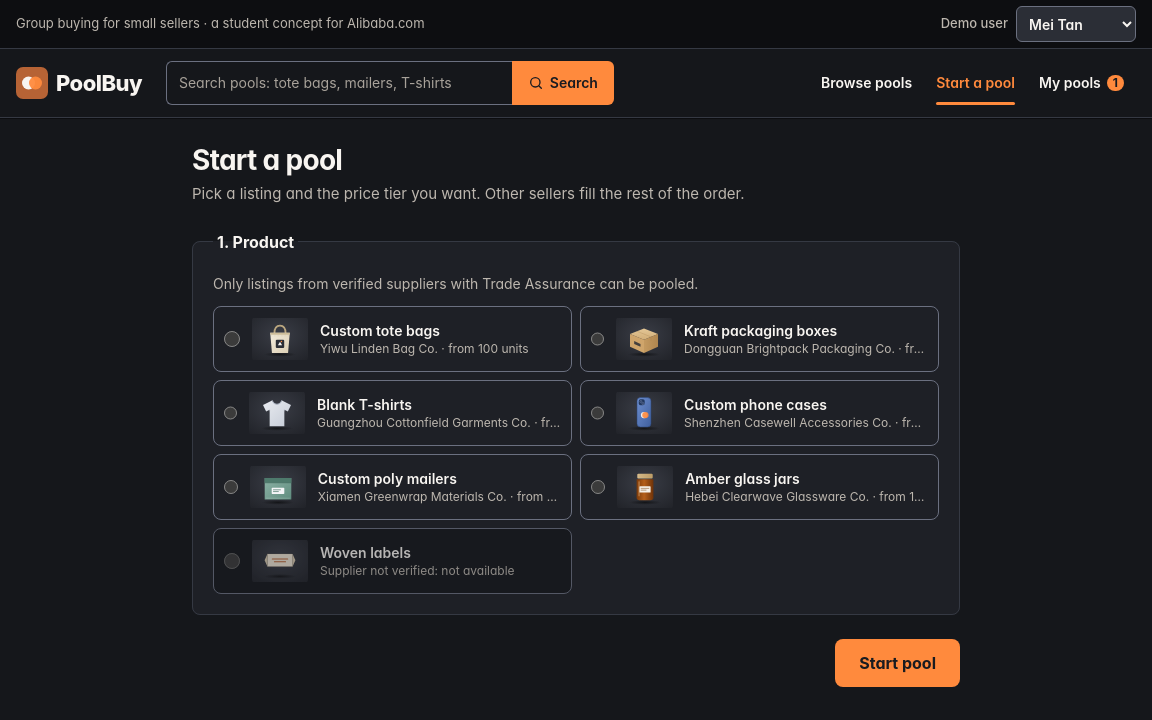
Scenario: Screen 3: start a pool (story 1) › shows an error instead of saving a script in the note
Step 1. Click the radio button labelled "Custom poly mailers" → (231, 487), box [224,479,238,495]
(page scrolled)
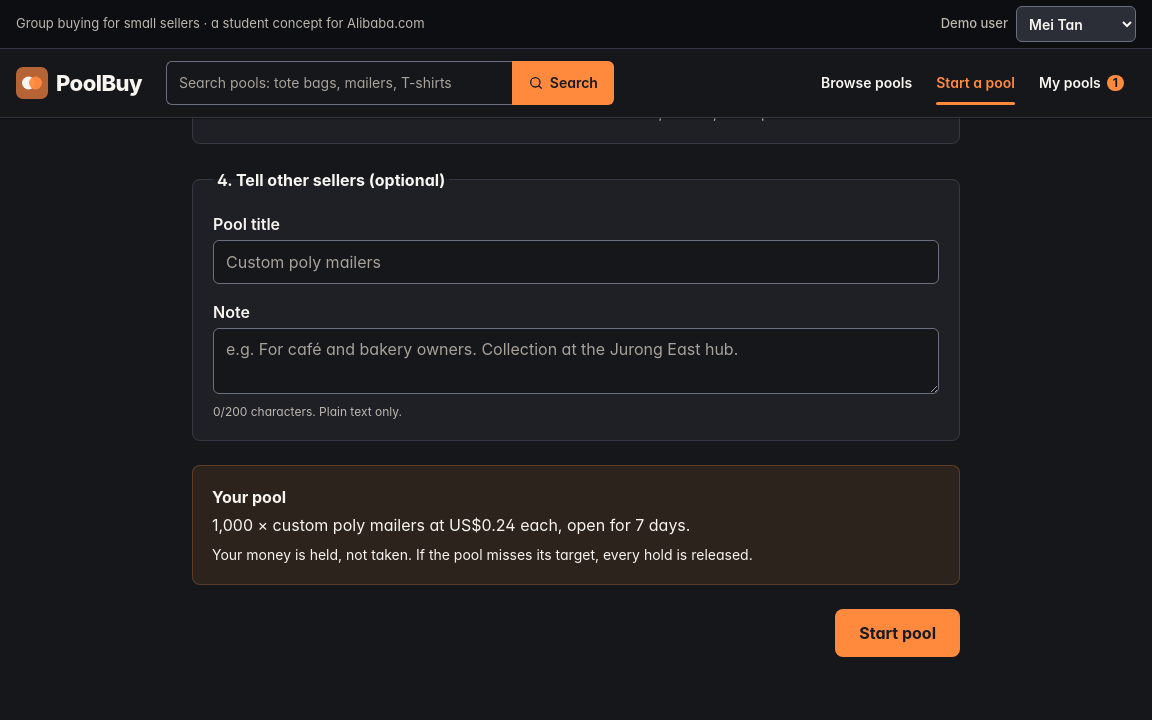
Step 2. Type "<img src=x onerror=alert(1)>" into the text box labelled "Note" → (576, 361), box [213,328,939,394]
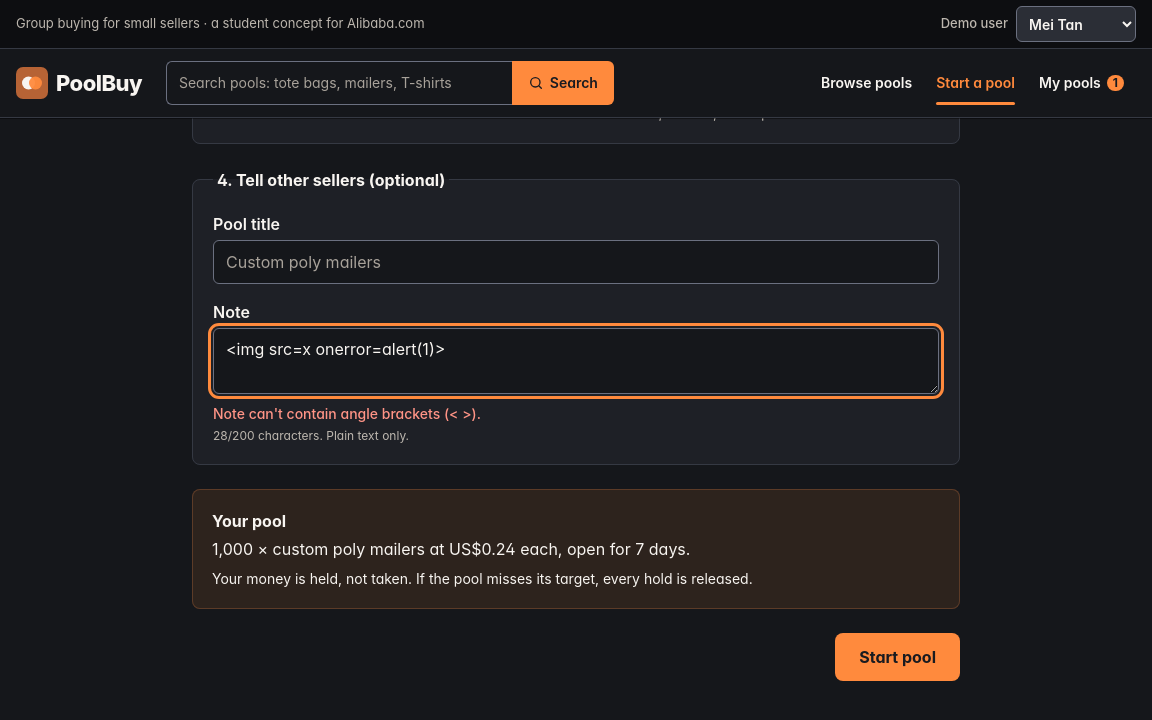
Check: the text "Note can't contain angle brackets (< >)." is shown, box [213,405,481,422]
